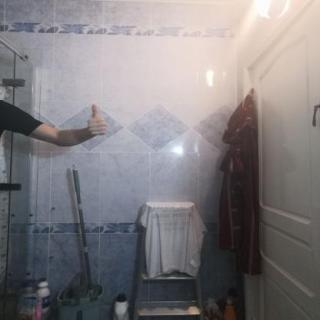ALIF: (80, 100, 112, 140)
